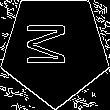M_E: (31, 27, 79, 72)
